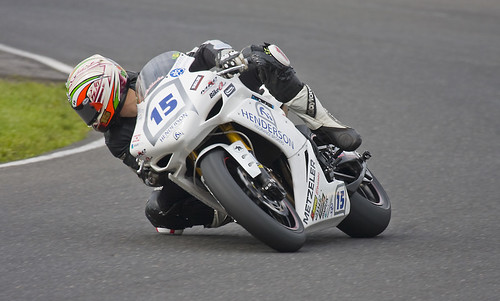helmet: (54, 45, 130, 133)
